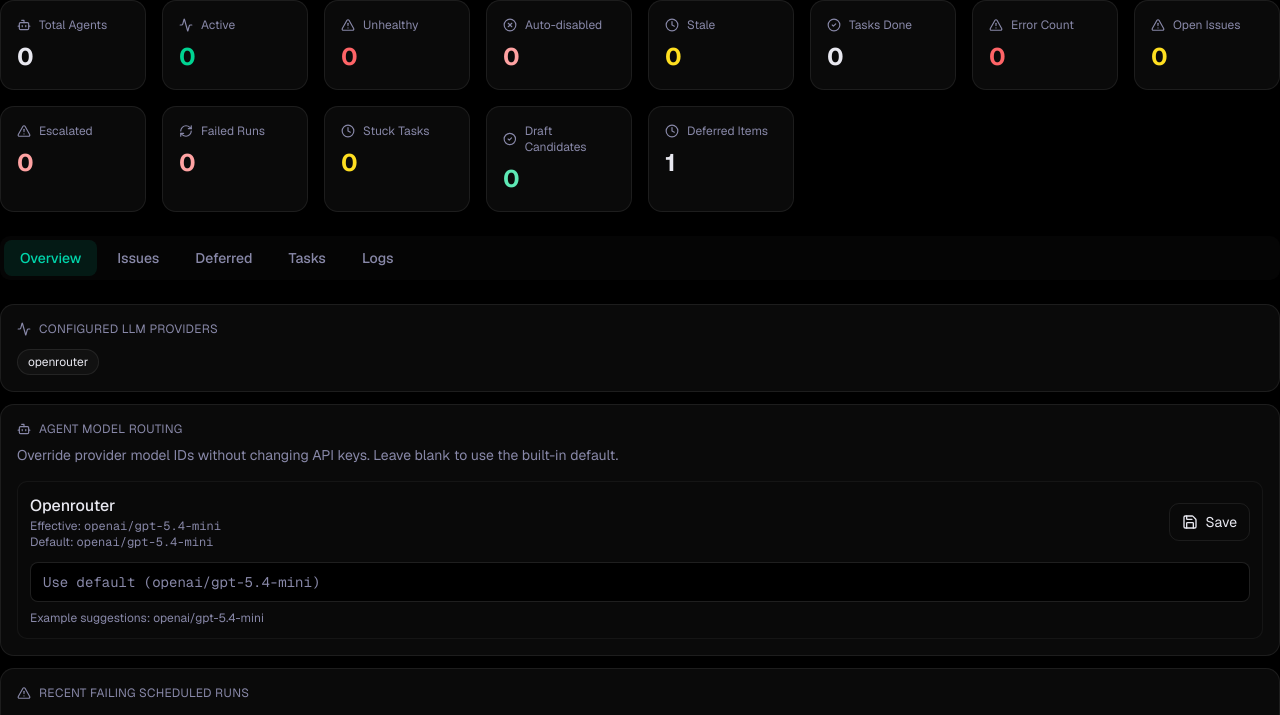
Test: AgentsContent › renders deferred items with clean labels instead of mojibake and vague fallbacks
Click the button "deferred". click: (224,258)
box: top-left (179, 240), bottom-right (268, 276)
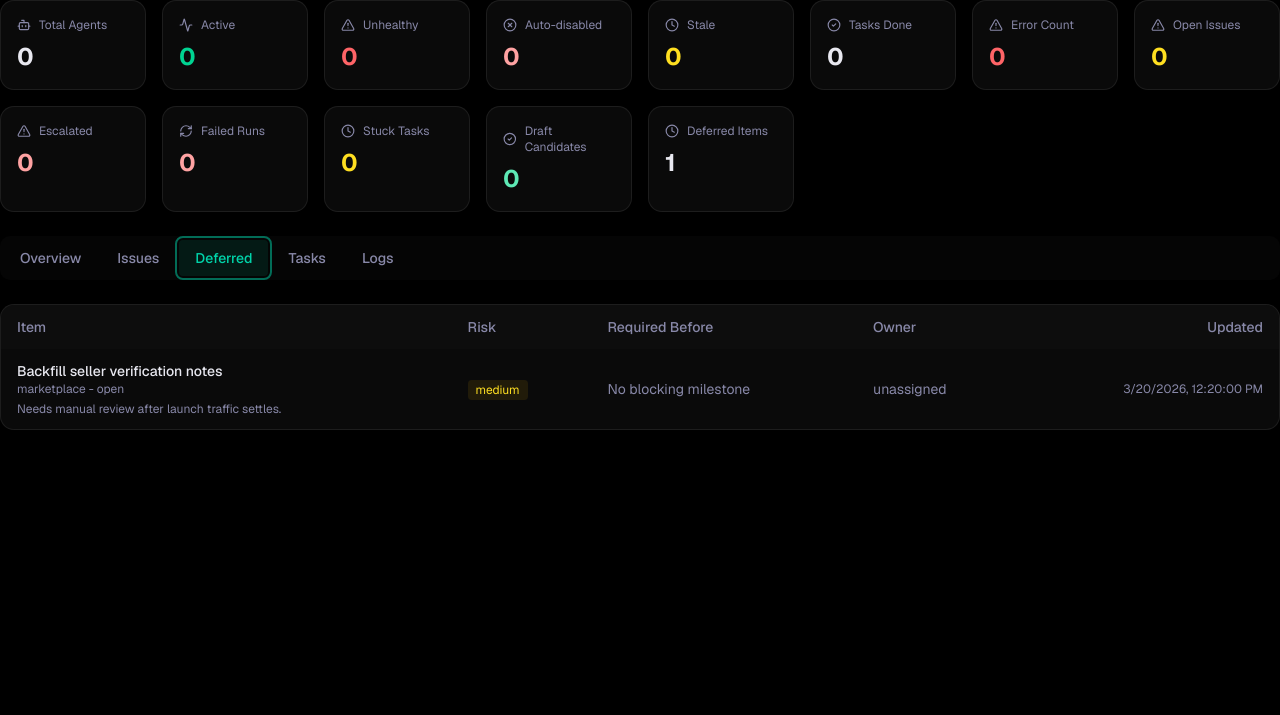
Now the text "marketplace - open" is shown, box top-left (17, 381), bottom-right (124, 397)
Now the text "No blocking milestone" is shown, box top-left (592, 349), bottom-right (857, 429)
